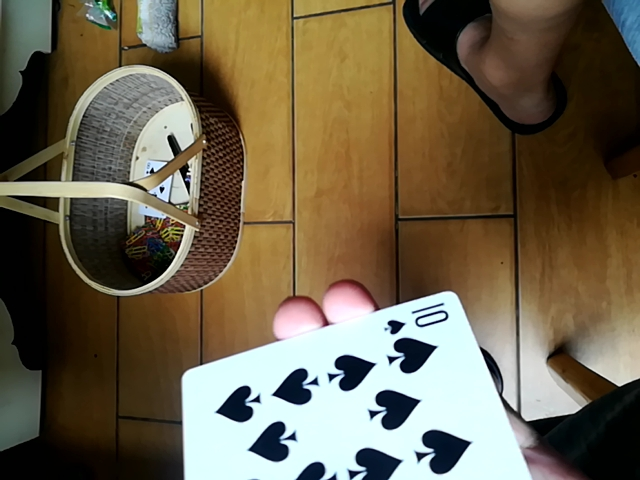ht 10: (184, 291, 531, 479)
